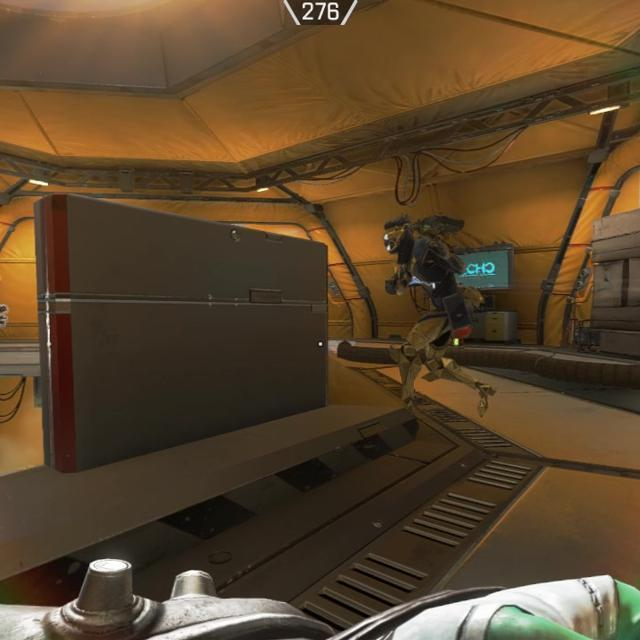avatar: (381, 214, 473, 409)
